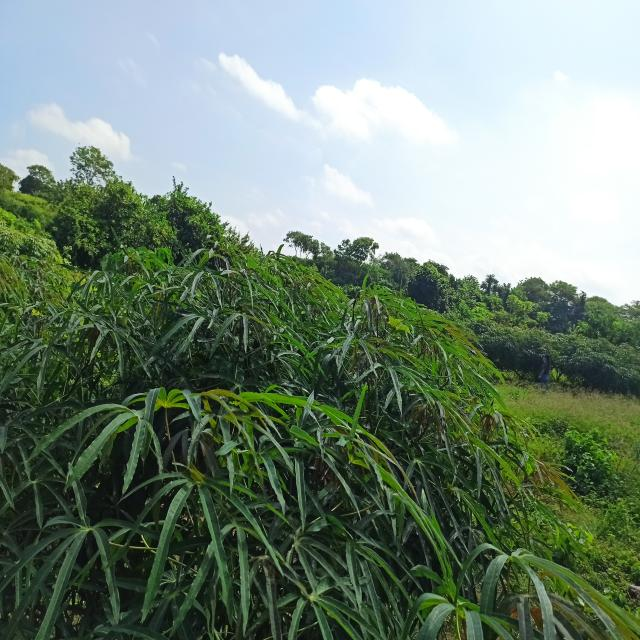Maleza: (552, 404, 640, 585)
Mosca: (152, 494, 168, 514), (120, 557, 133, 574), (92, 479, 106, 493), (304, 461, 316, 475)
